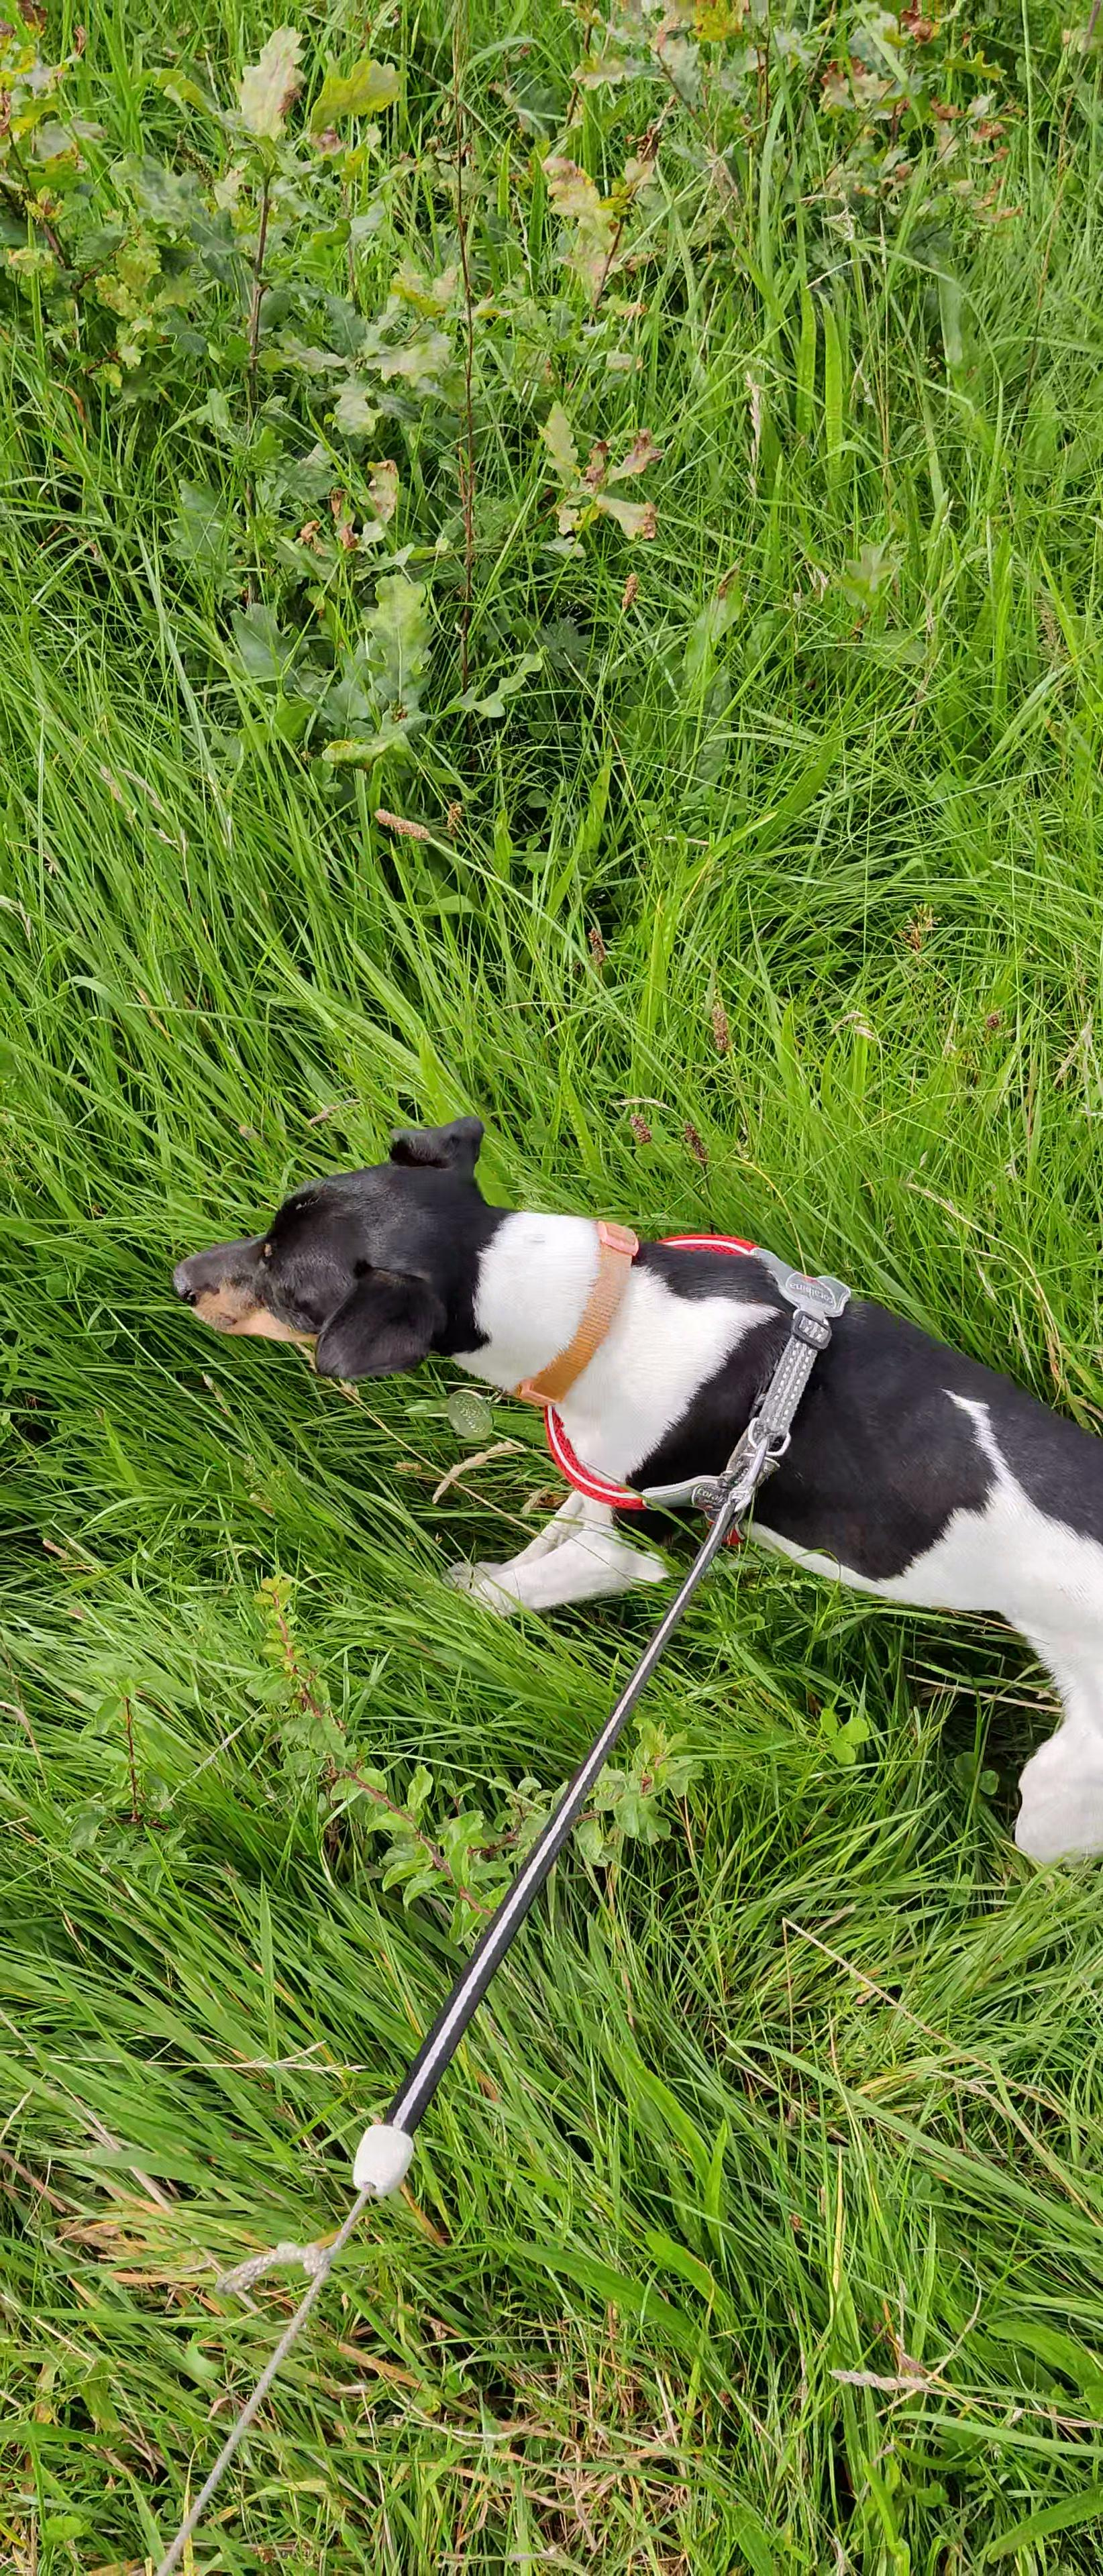Dog: (151, 1107, 1103, 1878)
